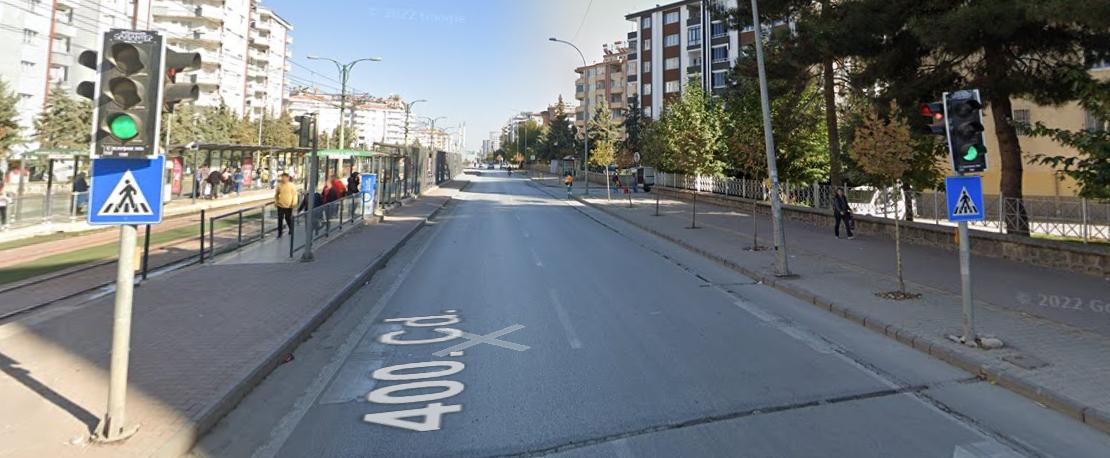greenlight: (104, 32, 151, 142), (945, 93, 986, 165)
